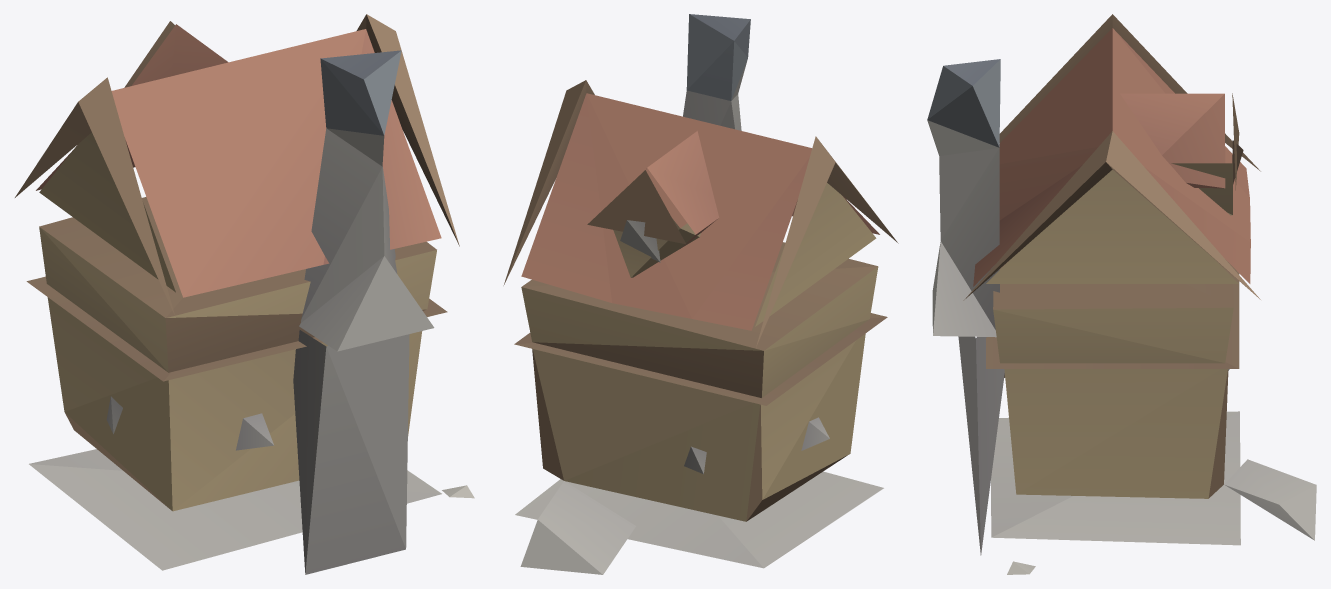
Rendered from house_citizens.v1.lite.glb.
3 views of the same model, side by side, from view 1: azimuth 30°, elevation 25°; view 2: azimuth 150°, elevation 25°; view 3: azimuth 270°, elevation 25° (orthographic). The views are drawn at different scales.
Visible parts, largest first — view 1: house_citizens; view 2: house_citizens; view 3: house_citizens.
Boxes of the visible parts, x1=… form: house_citizens: x1=15, y1=14, x2=474, y2=574; house_citizens: x1=503, y1=14, x2=898, y2=574; house_citizens: x1=927, y1=14, x2=1316, y2=574.
Size of the model in its own units: 1.98 by 2.81 by 2.12.
